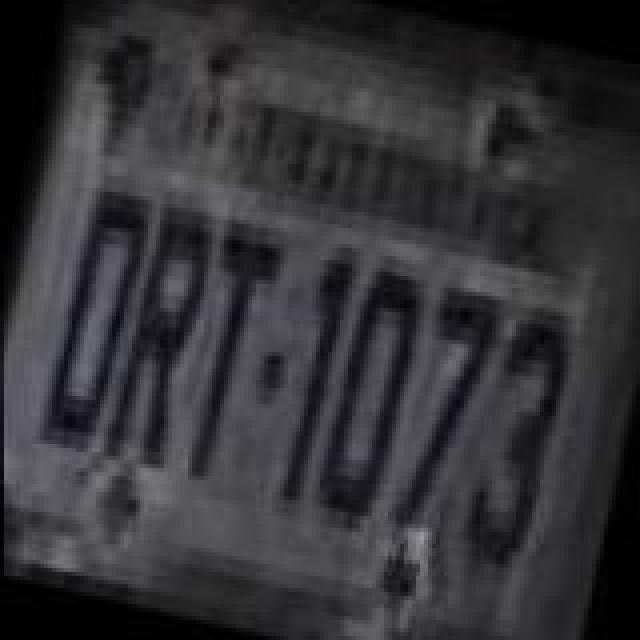1: (264, 234, 364, 518)
3: (450, 298, 582, 590)
7: (390, 280, 506, 548)
D: (34, 180, 154, 452)
O: (308, 254, 428, 530)
R: (100, 198, 224, 478)
T: (164, 210, 288, 498)
